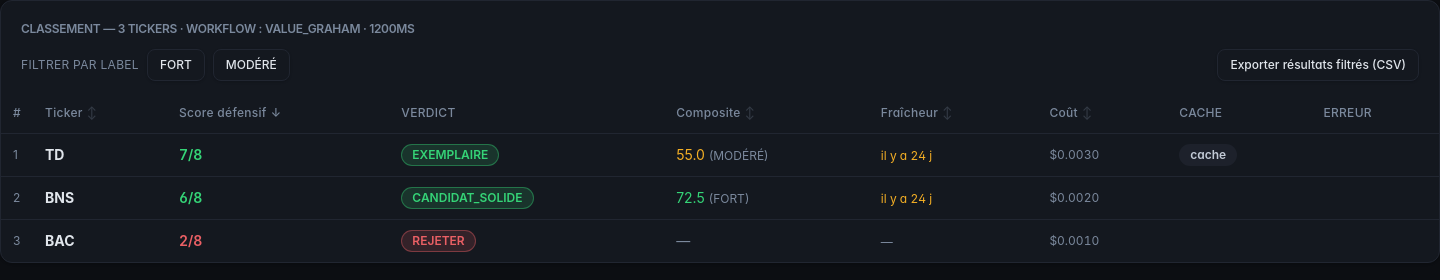
Scenario: ScreenerTable › filtre les lignes au clic sur un label composite
Click the button with test id "label-filter-FORT". click: (176, 65)
box: [147,49,205,81]
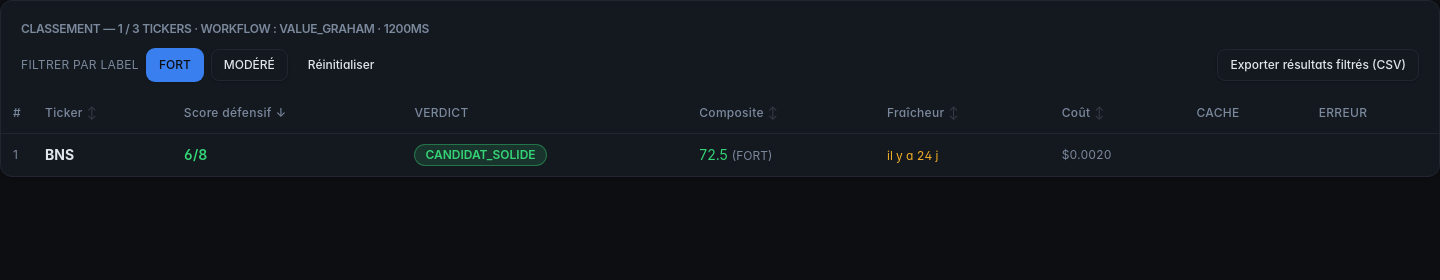
expect the text "BNS" is shown: met, box [33,134,172,176]
expect the text "TD" is gone: met
expect the text "BAC" is gone: met
